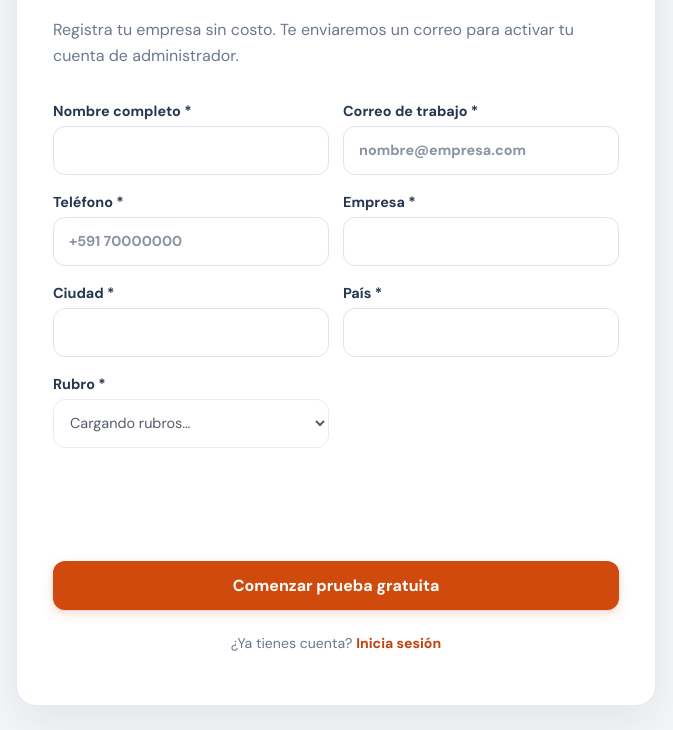
TrialSignupPage › muestra los errores en línea y no envía datos incompletos
The width and height of the screenshot is (673, 730).
(page scrolled)
Click the button "Comenzar prueba gratuita": (336, 585) [53,561,619,610]
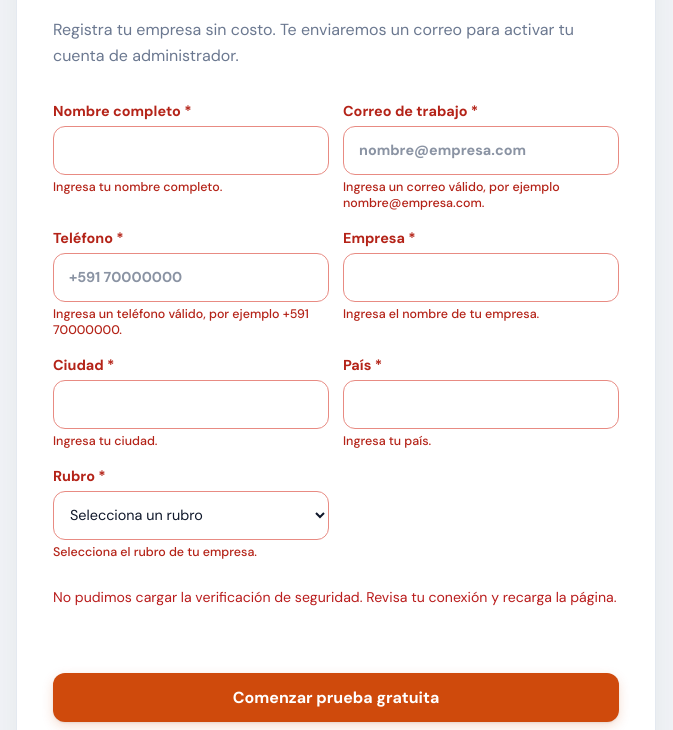
Expected: the text "Ingresa tu nombre completo." is shown, [53,179,222,195]
Expected: the text "Selecciona el rubro de tu empresa." is shown, [53,544,257,560]
